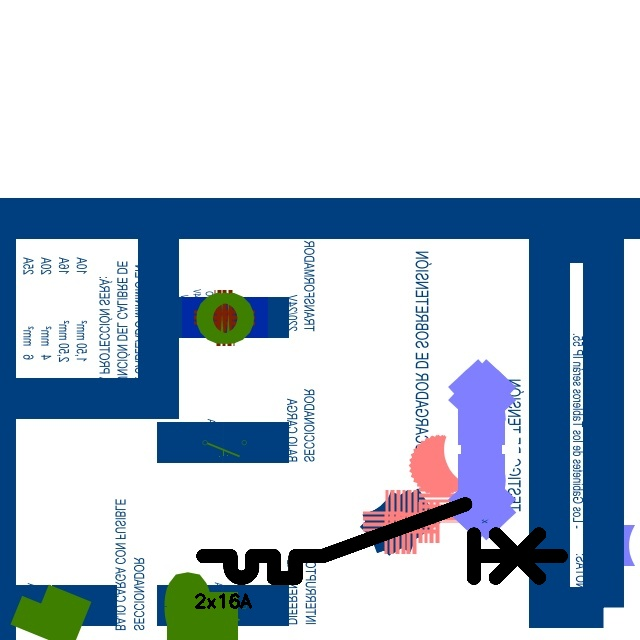interruptor_termomagnetico: (194, 495, 570, 587)
